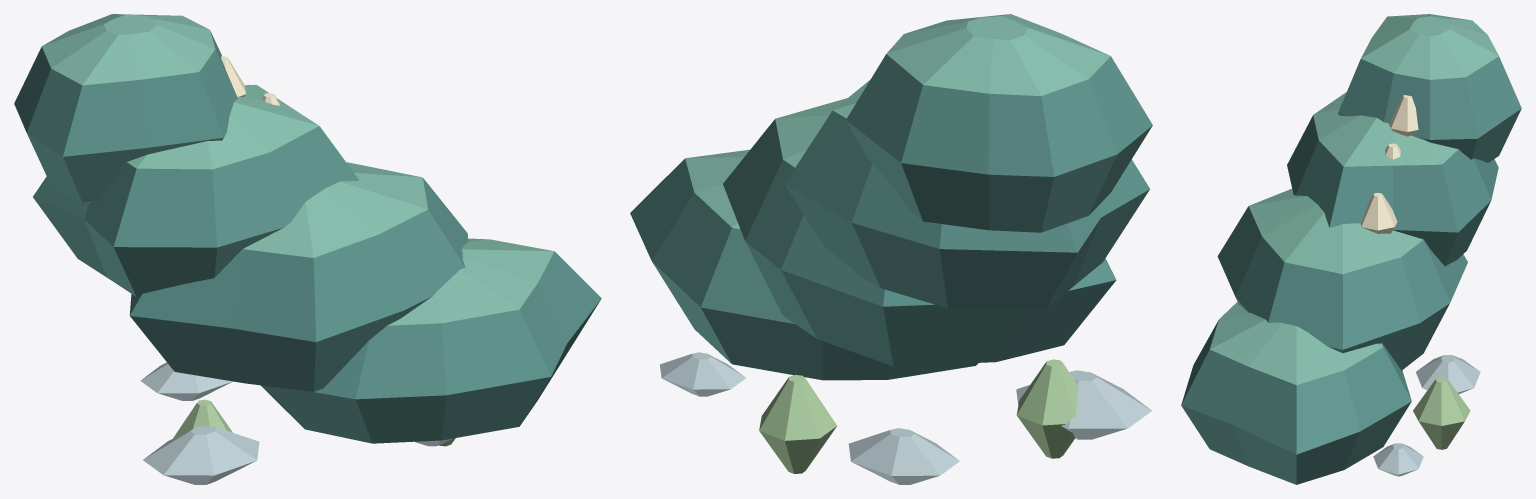
File: lagoon_shrub_salal_b.glb
The picture shows the model from 3 angles, left to right: view 1: azimuth 30°, elevation 25°; view 2: azimuth 150°, elevation 25°; view 3: azimuth 270°, elevation 25°; orthographic projection. The views are drawn at different scales.
Parts seen in each view (by area): view 1: lagoon_shrub_salal_b.001; view 2: lagoon_shrub_salal_b.001; view 3: lagoon_shrub_salal_b.001.
Boxes of the visible parts, x1,y1,x2,y2 form: lagoon_shrub_salal_b.001: (14, 14, 601, 484); lagoon_shrub_salal_b.001: (630, 14, 1152, 484); lagoon_shrub_salal_b.001: (1181, 14, 1521, 484).
Size of the model in its own units: 2.63 by 2.1 by 1.84.
